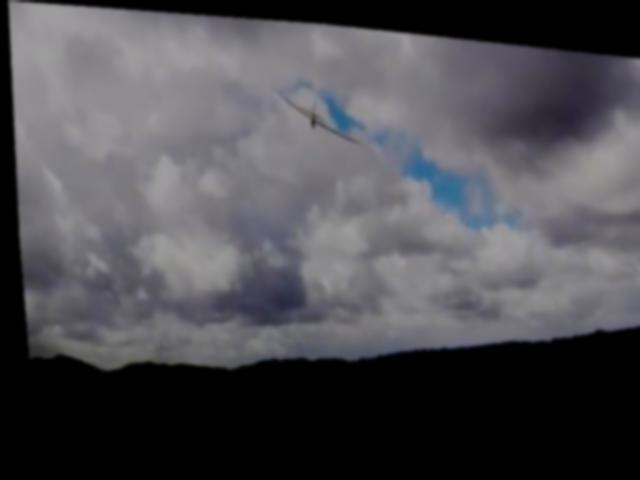iha: (272, 80, 364, 146)
